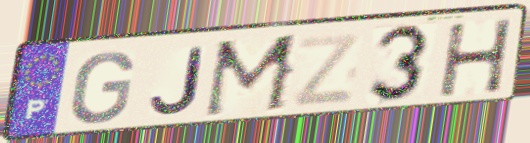3: (362, 22, 437, 107)
G: (67, 50, 138, 127)
H: (437, 16, 516, 100)
J: (147, 45, 208, 117)
M: (199, 31, 303, 121)
Z: (289, 30, 364, 110)
